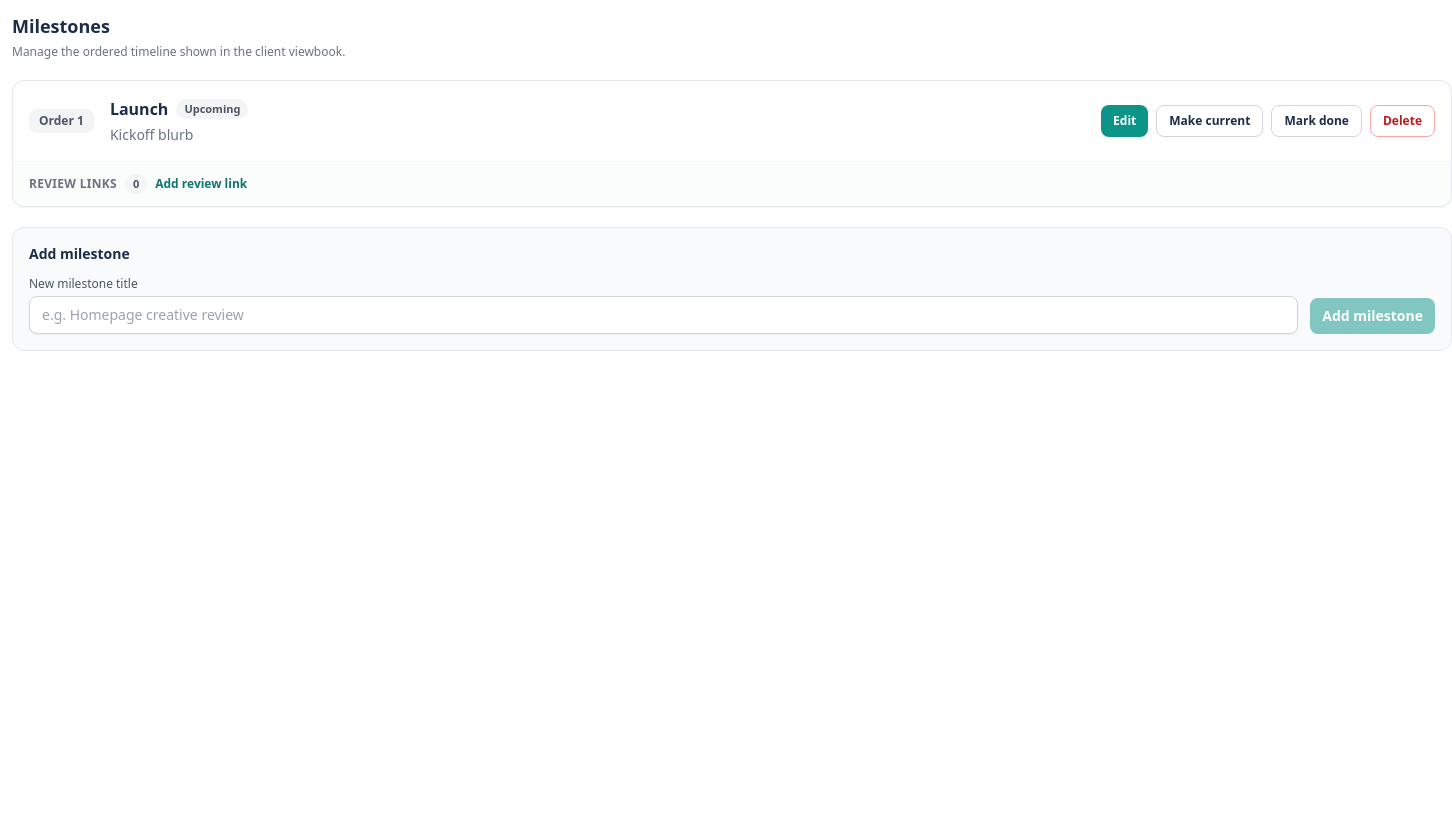
Test: MilestonesEditor › renders a description textarea for a milestone once its edit row is open, seeded from the milestone
The image size is (1452, 822).
Click the button with aria-label "Edit Launch".
click(1125, 121)  # box [1101, 105, 1148, 137]
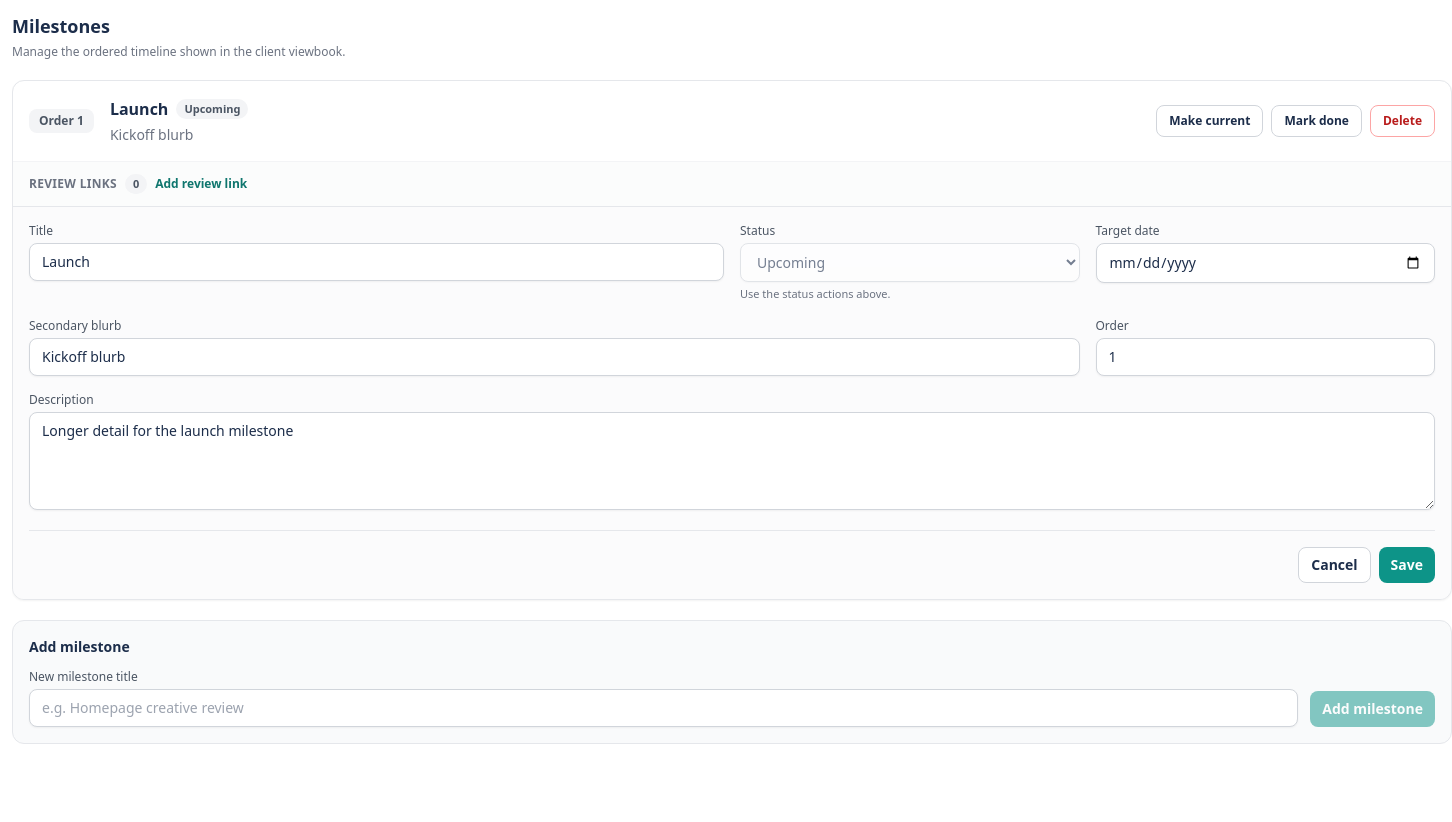
Check: the text box labelled "Description" holds "Longer detail for the launch milestone", box [29, 412, 1435, 510]
Check: the field labelled "Title" is shown, box [29, 243, 724, 281]
Check: the date field labelled "Target date" is shown, box [1096, 243, 1435, 283]
